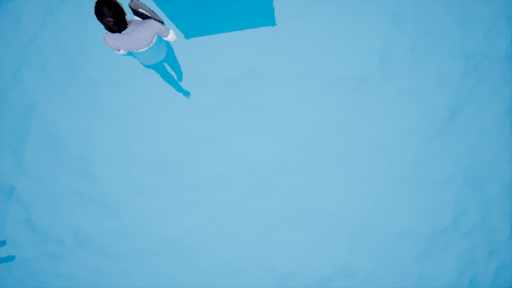person: (88, 5, 198, 100)
